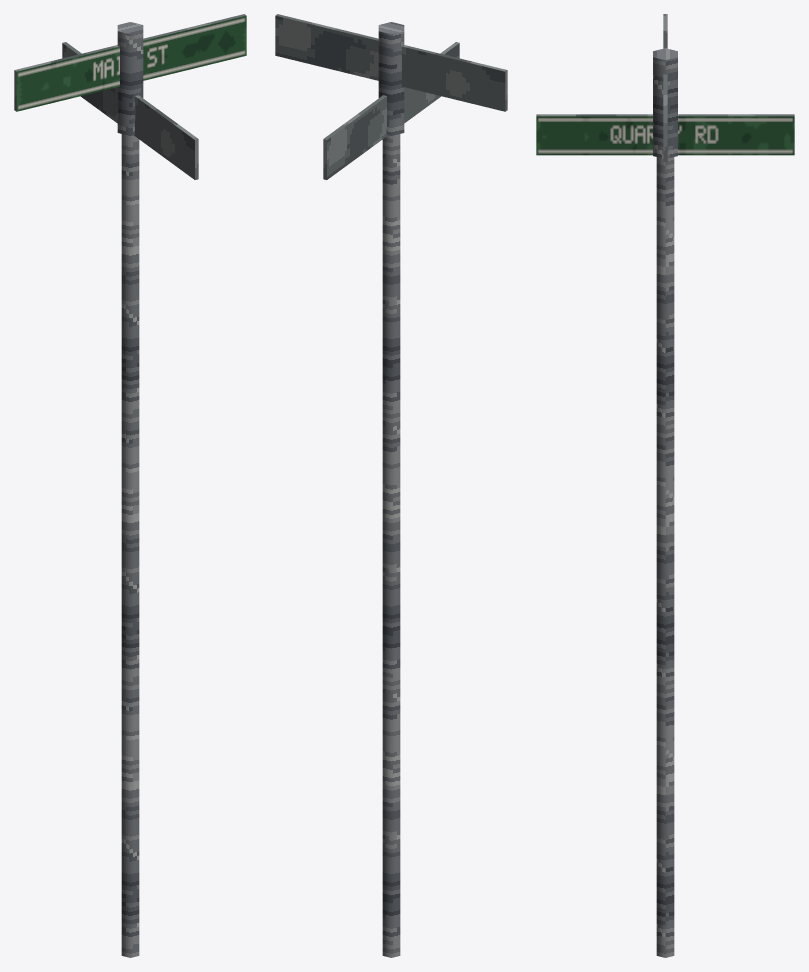
File: SP_Sign_StreetName_Quarry_Main.obj
3 renders of one model, left to right at view 1: azimuth 30°, elevation 25°; view 2: azimuth 150°, elevation 25°; view 3: azimuth 270°, elevation 25°, orthographic. The views are drawn at different scales.
Visible parts, largest first — view 1: SP_Sign_StreetName_Quarry_Main_Mesh_M_Furn_MetalBrushed, SP_Sign_StreetName_Quarry_Main_Mesh_M_Town_SignAtlas, SP_Sign_StreetName_Quarry_Main_Mesh_M_Com_SignageBacking; view 2: SP_Sign_StreetName_Quarry_Main_Mesh_M_Furn_MetalBrushed, SP_Sign_StreetName_Quarry_Main_Mesh_M_Com_SignageBacking; view 3: SP_Sign_StreetName_Quarry_Main_Mesh_M_Furn_MetalBrushed, SP_Sign_StreetName_Quarry_Main_Mesh_M_Town_SignAtlas, SP_Sign_StreetName_Quarry_Main_Mesh_M_Com_SignageBacking.
Part boxes in pixels (left/top/right/bottom): SP_Sign_StreetName_Quarry_Main_Mesh_M_Furn_MetalBrushed: left=117, top=22, right=143, bottom=957; SP_Sign_StreetName_Quarry_Main_Mesh_M_Town_SignAtlas: left=16, top=15, right=246, bottom=111; SP_Sign_StreetName_Quarry_Main_Mesh_M_Com_SignageBacking: left=14, top=14, right=245, bottom=179; SP_Sign_StreetName_Quarry_Main_Mesh_M_Furn_MetalBrushed: left=378, top=22, right=404, bottom=957; SP_Sign_StreetName_Quarry_Main_Mesh_M_Com_SignageBacking: left=275, top=14, right=507, bottom=179; SP_Sign_StreetName_Quarry_Main_Mesh_M_Furn_MetalBrushed: left=653, top=48, right=677, bottom=957; SP_Sign_StreetName_Quarry_Main_Mesh_M_Town_SignAtlas: left=536, top=116, right=794, bottom=155; SP_Sign_StreetName_Quarry_Main_Mesh_M_Com_SignageBacking: left=536, top=14, right=794, bottom=161.
Bounding box in the file's own units: 0.9 × 3.46 × 0.9.
3 materials, 3 textured.
